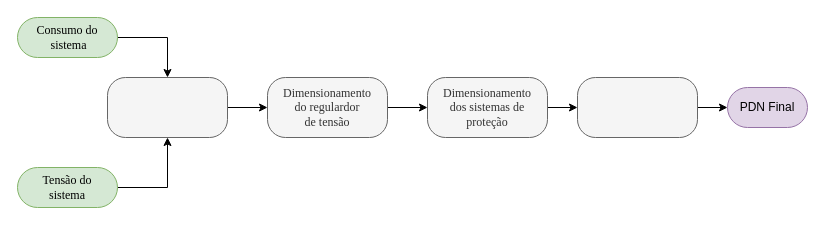
The diagram is 825 pixels wide and 225 high, and some of its shapes have lost their labels. The shapes that lost their labels are listed below. From the top down, each one's box as (x1, y1, x2, y2) in pixels, then its label:
(106, 76, 228, 138): Dimensionamento bateria
(576, 76, 698, 138): Dimensionamento das vias de PCB
